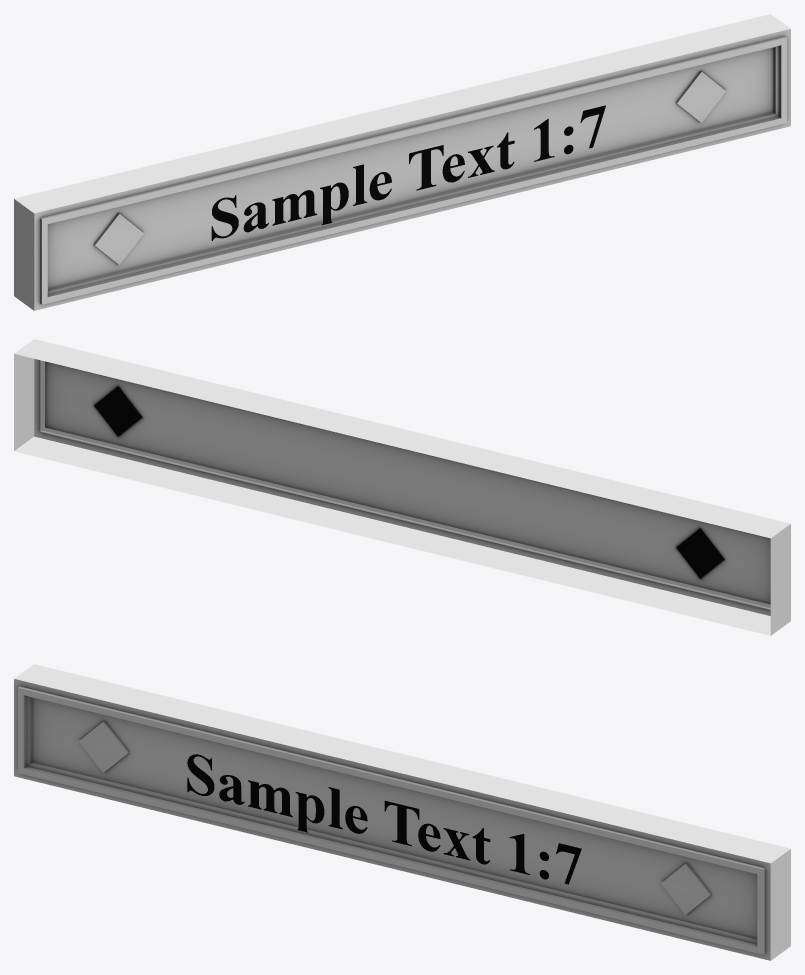
Rendered from name_4.glb.
3 renders of one model, top to bottom at view 1: azimuth 30°, elevation 25°; view 2: azimuth 150°, elevation 25°; view 3: azimuth 330°, elevation 25°, orthographic.
Parts seen in each view (by area): view 1: name_4, name_4_img; view 2: name_4; view 3: name_4, name_4_img.
Boxes of the visible parts, box(x1,y1,x2,y2) form: name_4: box(14, 14, 790, 310); name_4_img: box(211, 105, 605, 240); name_4: box(14, 339, 790, 635); name_4: box(14, 664, 790, 960); name_4_img: box(187, 754, 581, 884).
Bounding box in the file's own units: 6.5 × 0.8 × 0.3311.
2 materials, 2 textured.
